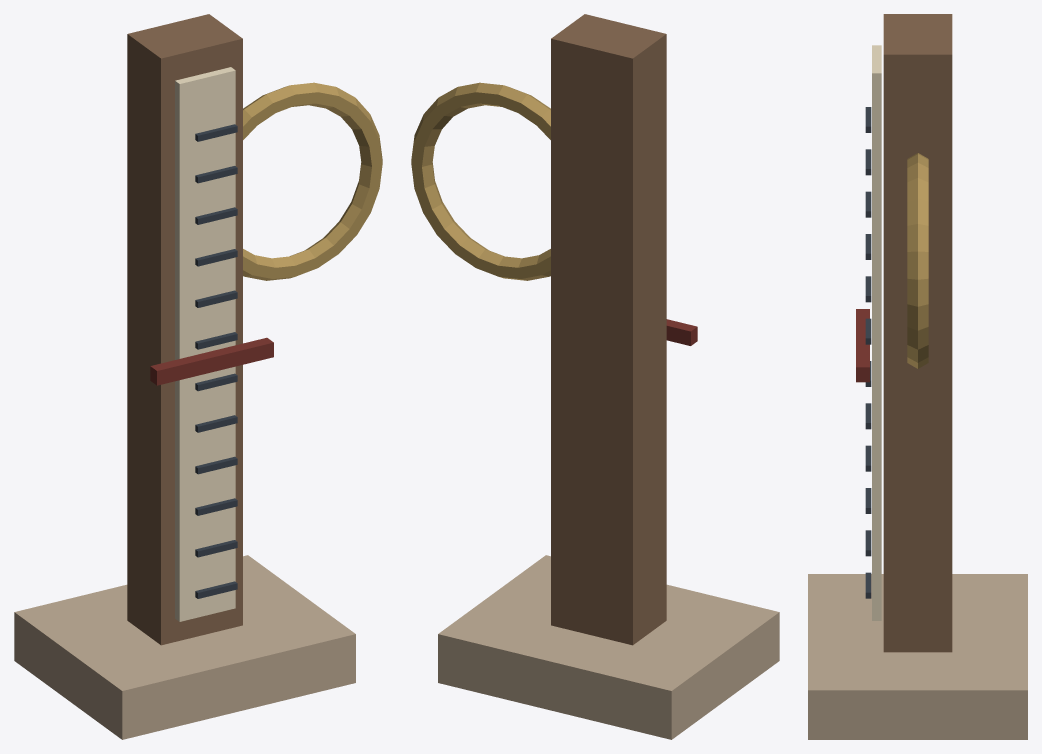
File: var_tide_gauge.glb
3 renders of one model, left to right at view 1: azimuth 30°, elevation 25°; view 2: azimuth 150°, elevation 25°; view 3: azimuth 270°, elevation 25°, orthographic.
Parts seen in each view (by area): view 1: var_tide_gauge; view 2: var_tide_gauge; view 3: var_tide_gauge.
Boxes of the visible parts, x1,y1,x2,y2 form: var_tide_gauge: (14, 14, 382, 739); var_tide_gauge: (411, 14, 779, 739); var_tide_gauge: (808, 14, 1027, 739).
Bounding box in the file's own units: 1.34 × 2.6 × 0.8.
